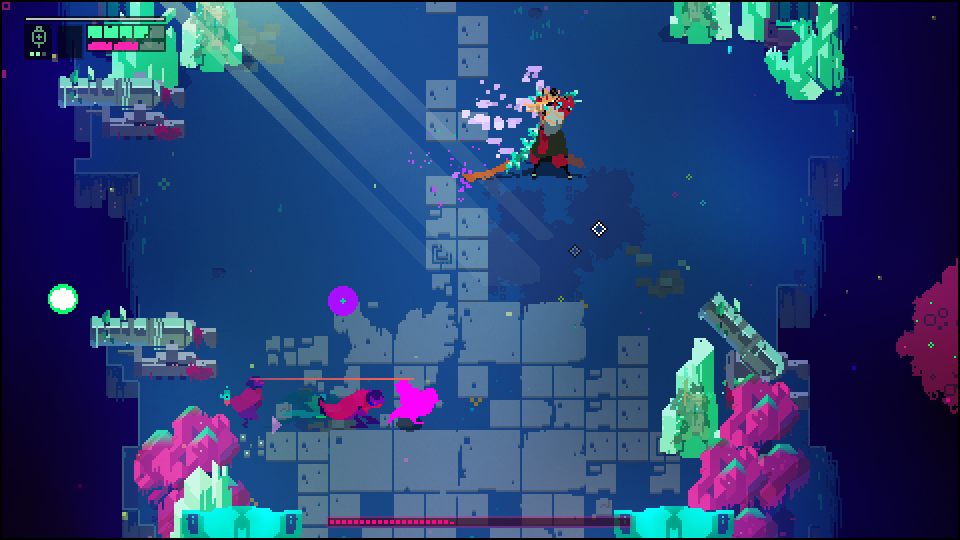hanged_man: (497, 84, 592, 182)
hanged_shot: (47, 281, 82, 318), (326, 284, 358, 319)
player: (381, 380, 443, 430)
